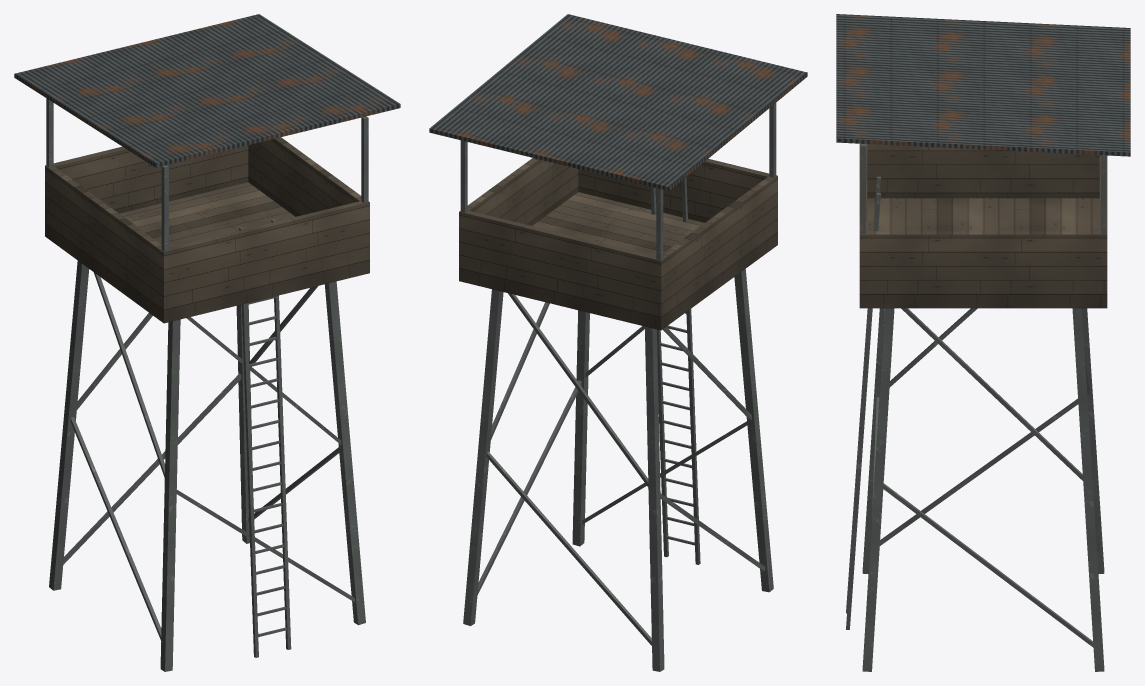
Rendered from watchtower.glb.
3 views of the same model, side by side, from view 1: azimuth 30°, elevation 25°; view 2: azimuth 150°, elevation 25°; view 3: azimuth 270°, elevation 25° (orthographic). The views are drawn at different scales.
Parts seen in each view (by area): view 1: watchtower; view 2: watchtower; view 3: watchtower.
Boxes of the visible parts, x1,y1,x2,y2 form: watchtower: [14, 14, 400, 671]; watchtower: [429, 14, 807, 671]; watchtower: [836, 14, 1130, 671].
Size of the model in its own units: 3.8 by 7.77 by 3.8.
Materials: 3 (3 with a texture image).
